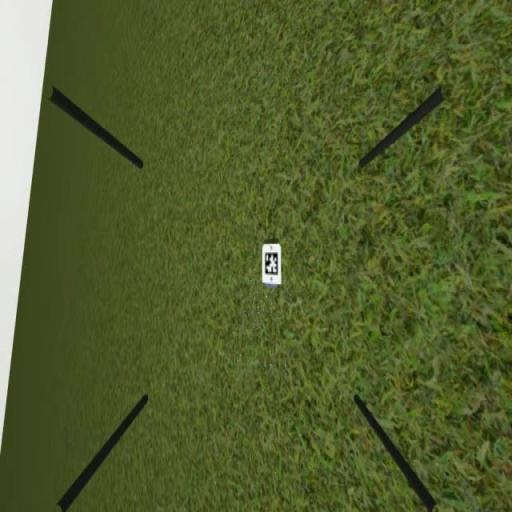UGV: (259, 240, 286, 293)
